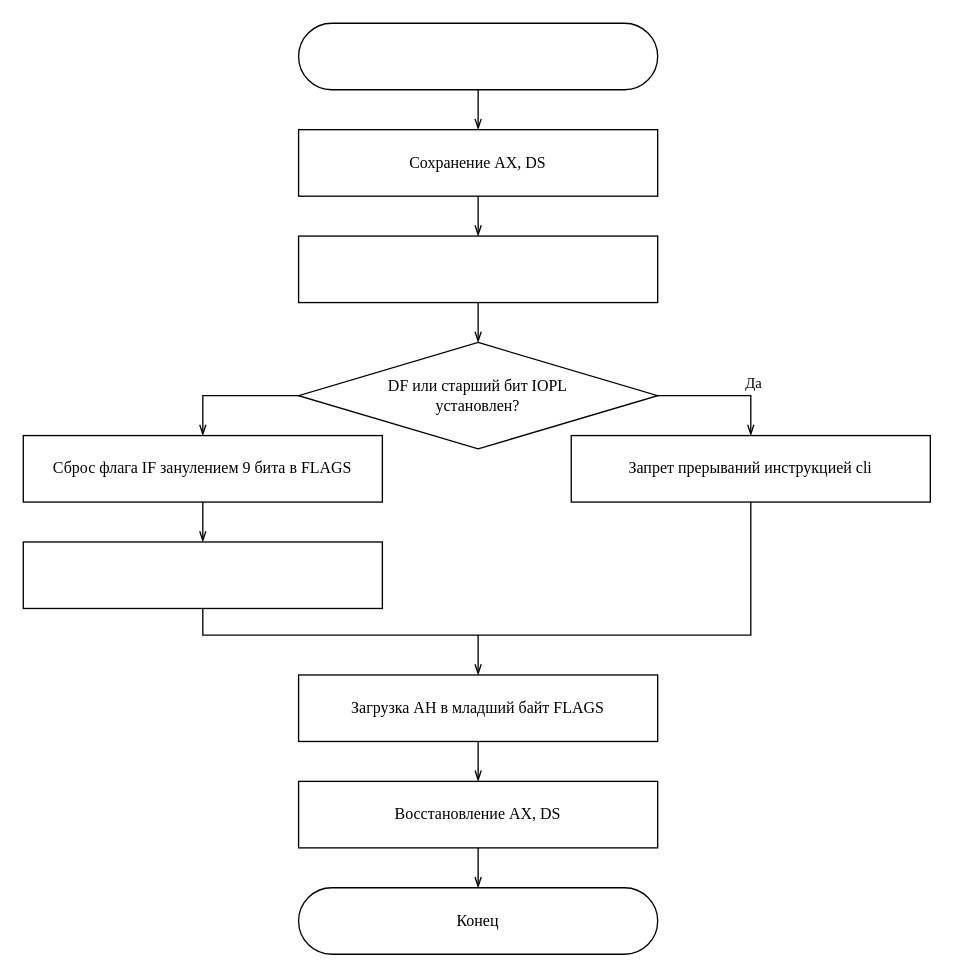
Some shapes in this 954 by 978 pixel diagram are drawn without their labels. The centre of each missing label's shape, as x and y in pixels:
"Загрузка младшего байт FLAGS в AH" belongs at [477,269].
"Начало" belongs at [477,56].
"Перекрытие шины данных на время" belongs at [202,574].
